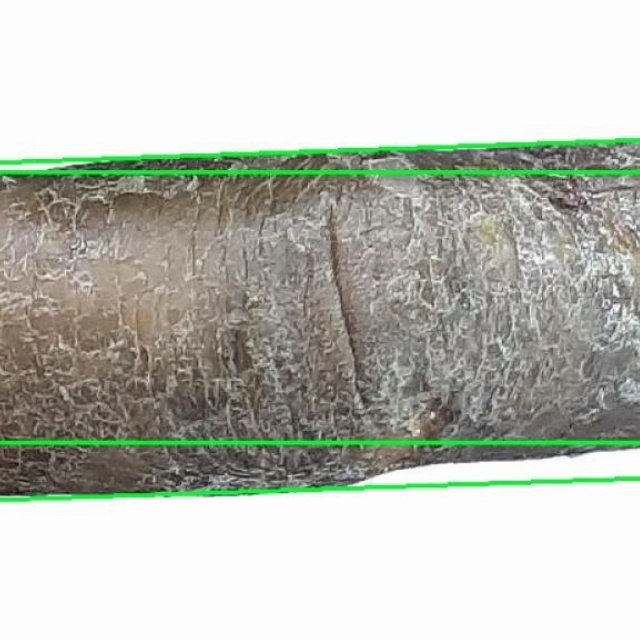Eczema: (0, 141, 639, 500), (0, 443, 639, 639), (0, 0, 639, 173)
